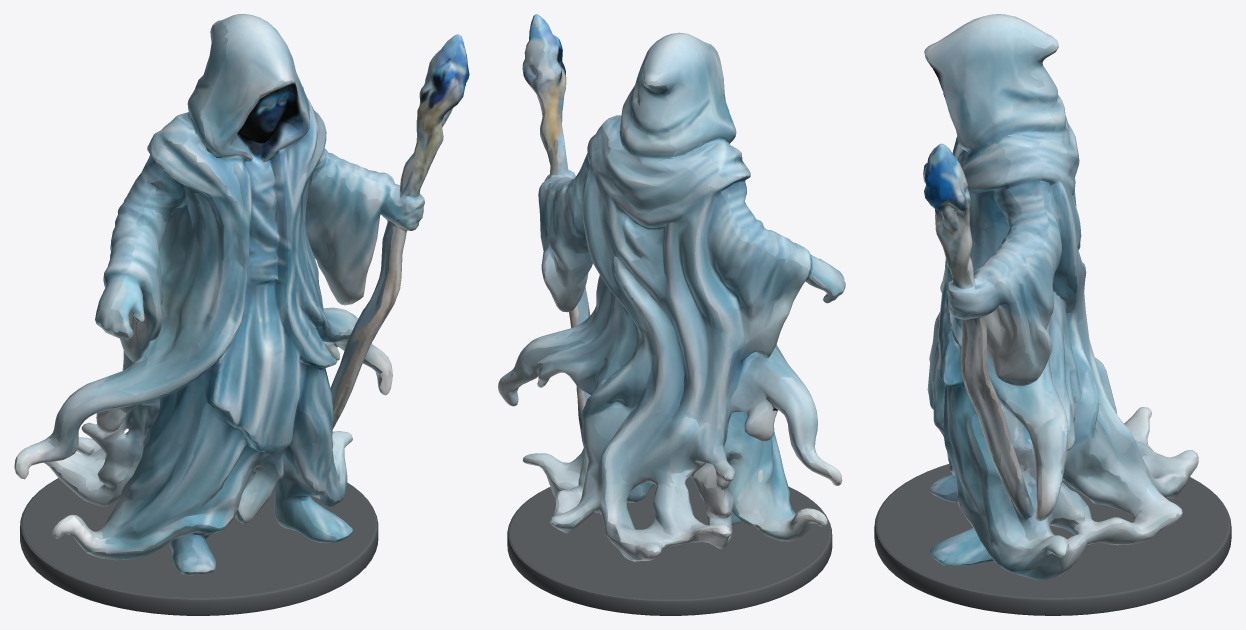
File: spectral-visitor.glb
3 renders of one model, left to right at view 1: azimuth 30°, elevation 25°; view 2: azimuth 150°, elevation 25°; view 3: azimuth 270°, elevation 25°, orthographic. The views are drawn at different scales.
Parts seen in each view (by area): view 1: spectral-visitor_body, spectral-visitor_round_base; view 2: spectral-visitor_body, spectral-visitor_round_base; view 3: spectral-visitor_body, spectral-visitor_round_base.
Boxes of the visible parts, bbox=[...] form: spectral-visitor_body: bbox=[14, 14, 469, 575]; spectral-visitor_round_base: bbox=[20, 478, 378, 615]; spectral-visitor_body: bbox=[498, 14, 845, 561]; spectral-visitor_round_base: bbox=[507, 477, 832, 615]; spectral-visitor_body: bbox=[923, 14, 1198, 580]; spectral-visitor_round_base: bbox=[874, 463, 1231, 615].
Bounding box in the file's own units: 1.28 × 1.65 × 1.
Materials: 2 (1 with a texture image).
